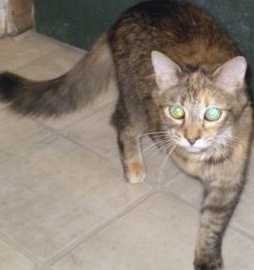Cat: (109, 0, 253, 269)
